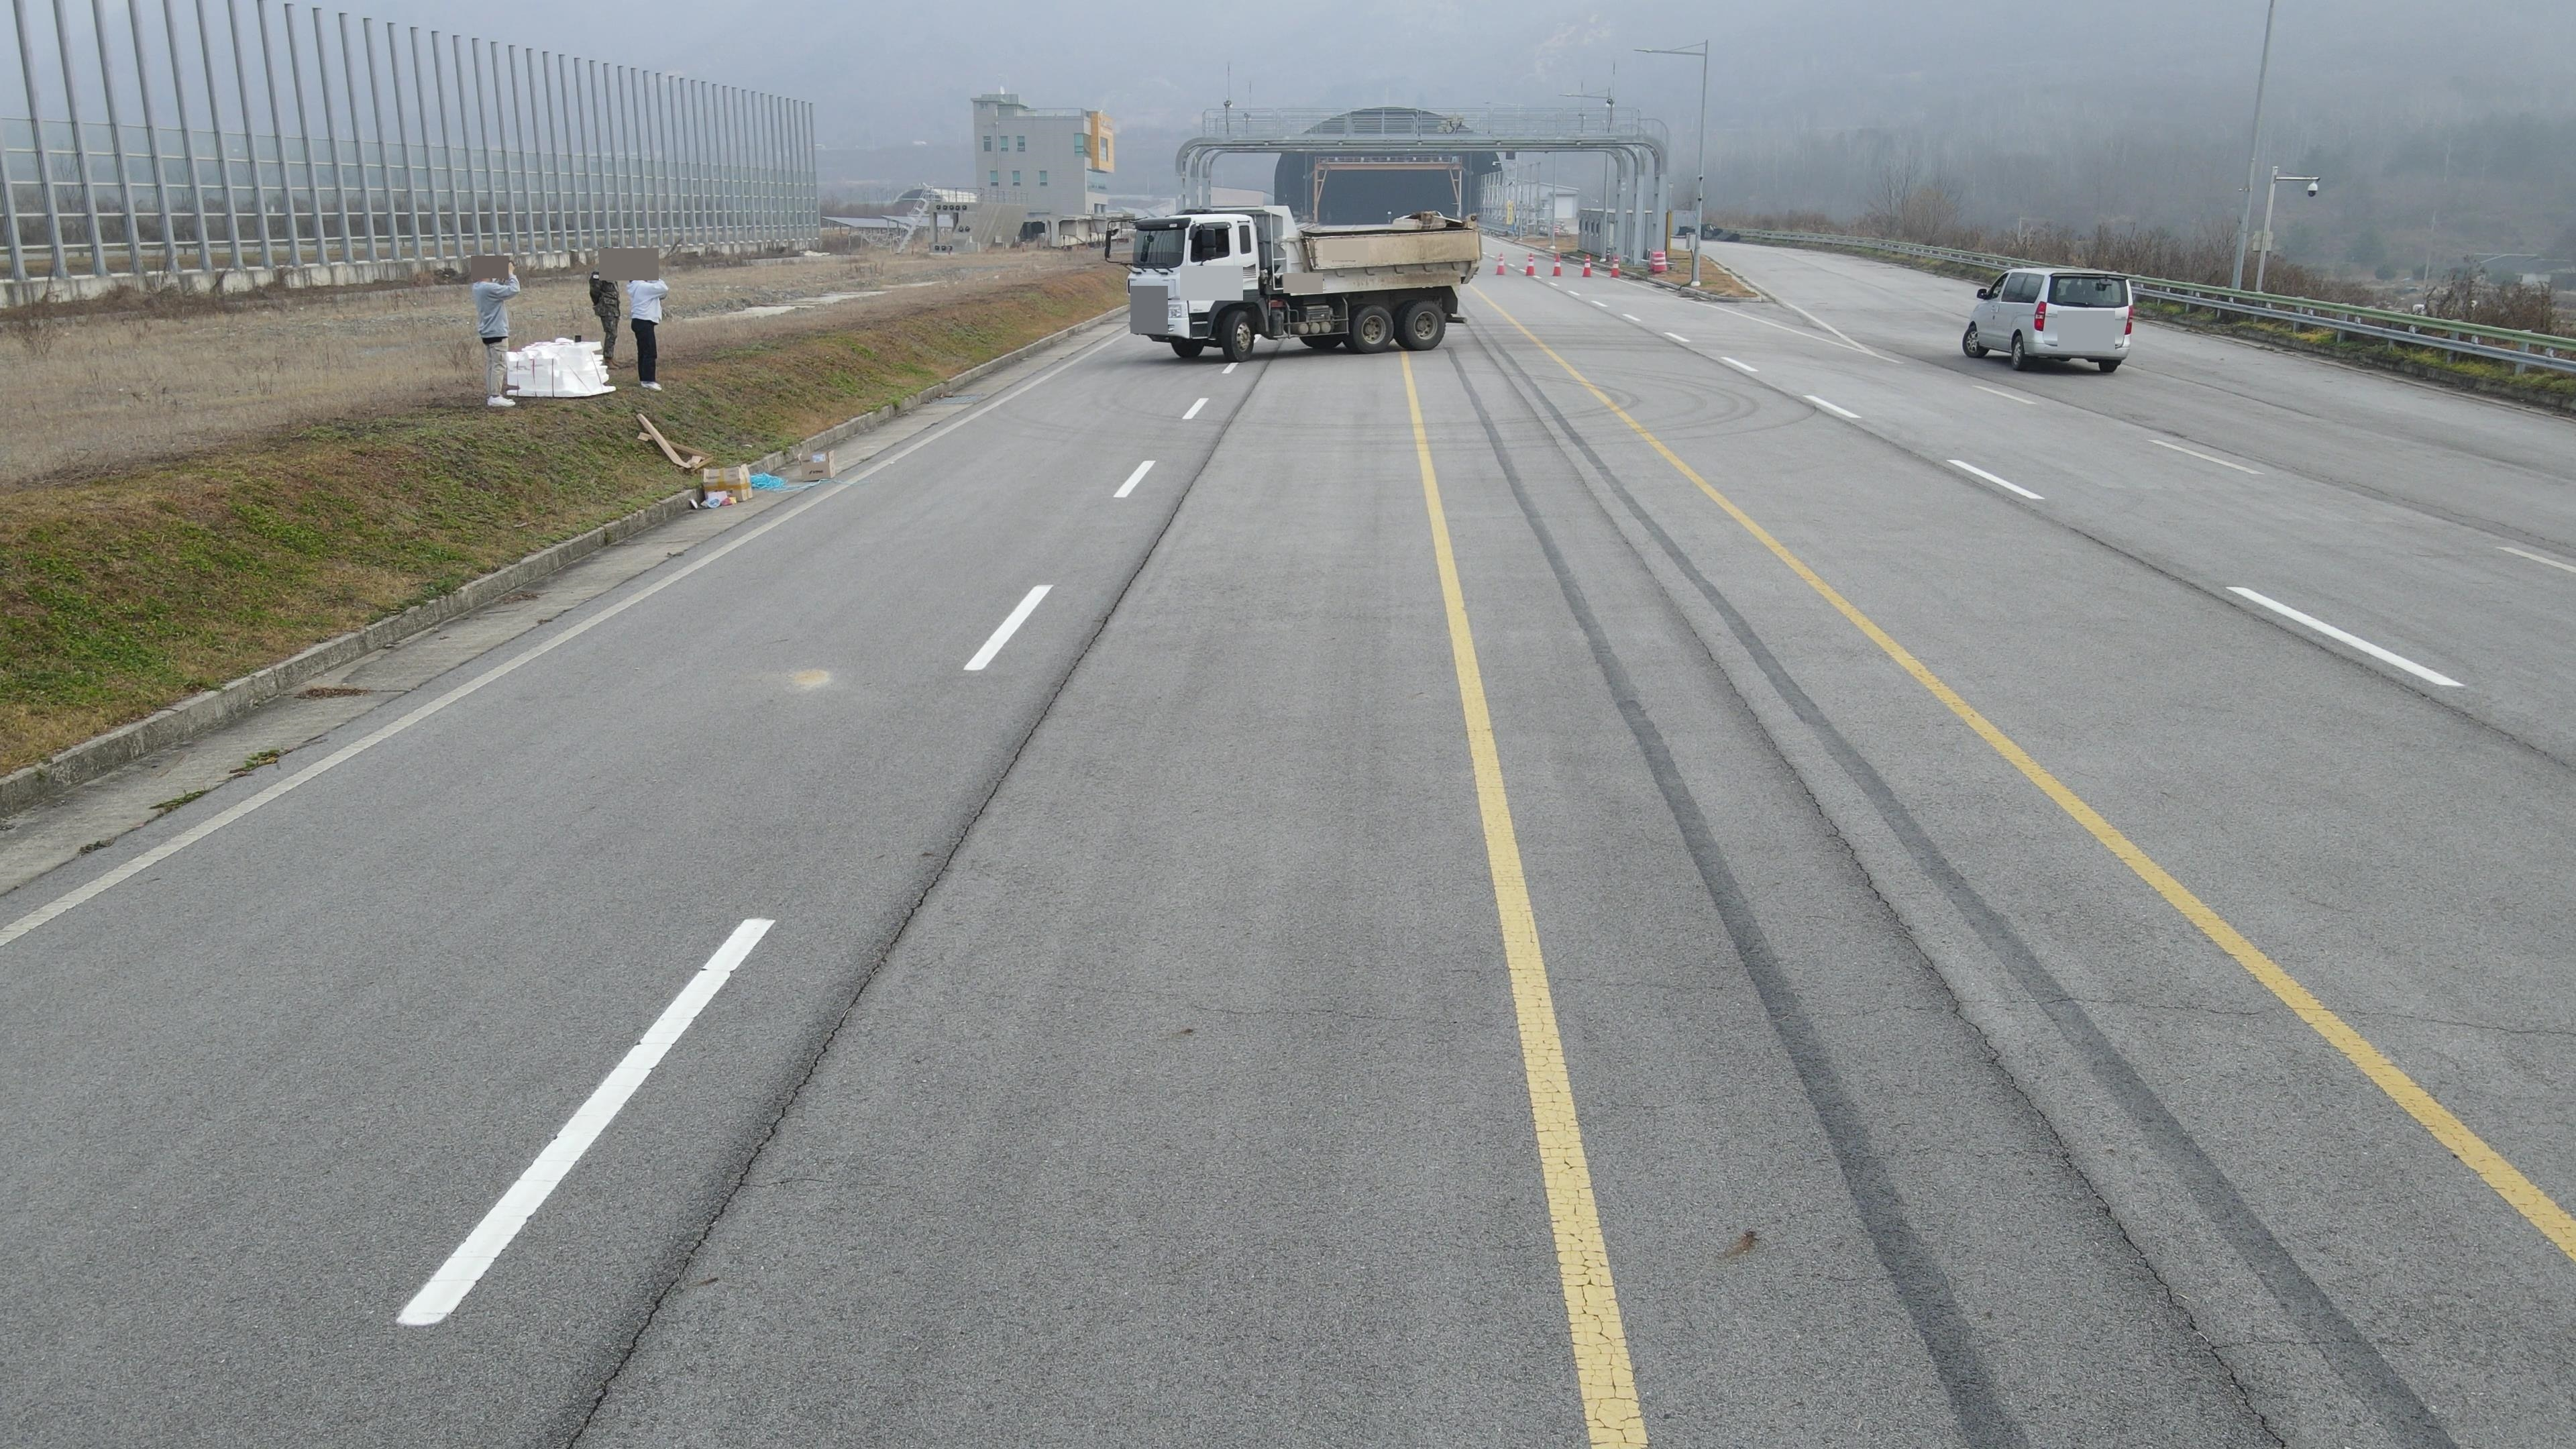불법차량: (1104, 205, 1483, 363)
